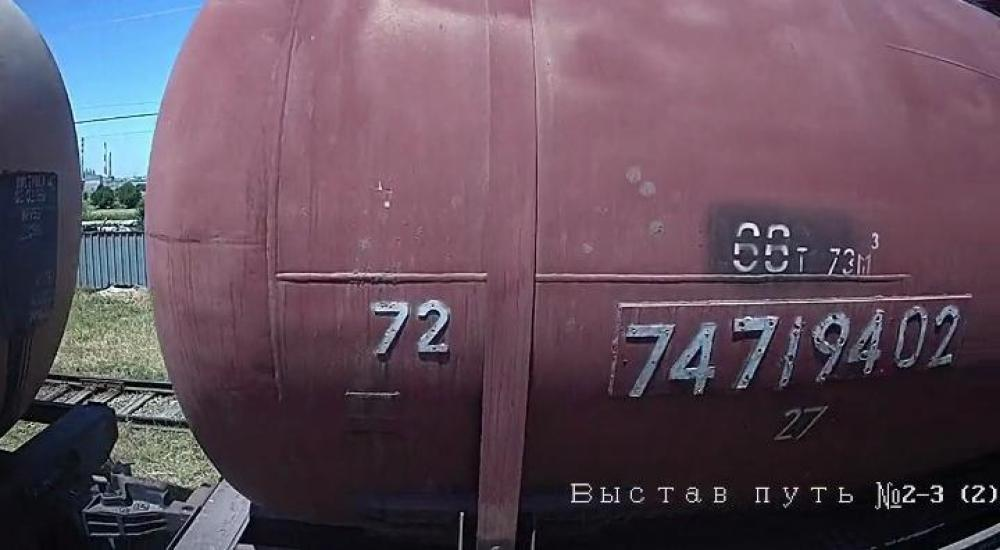Wagon-number: (615, 303, 962, 399)
